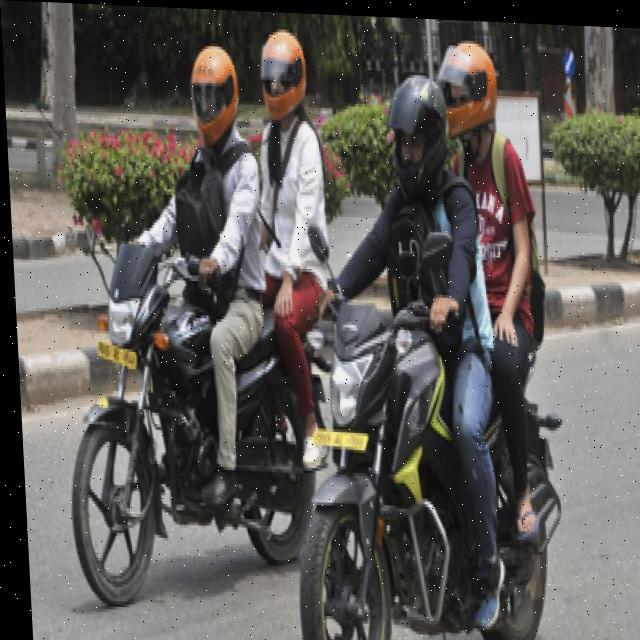With Helmet: (378, 59, 452, 195), (426, 36, 517, 146), (182, 32, 246, 159), (259, 17, 308, 126)
